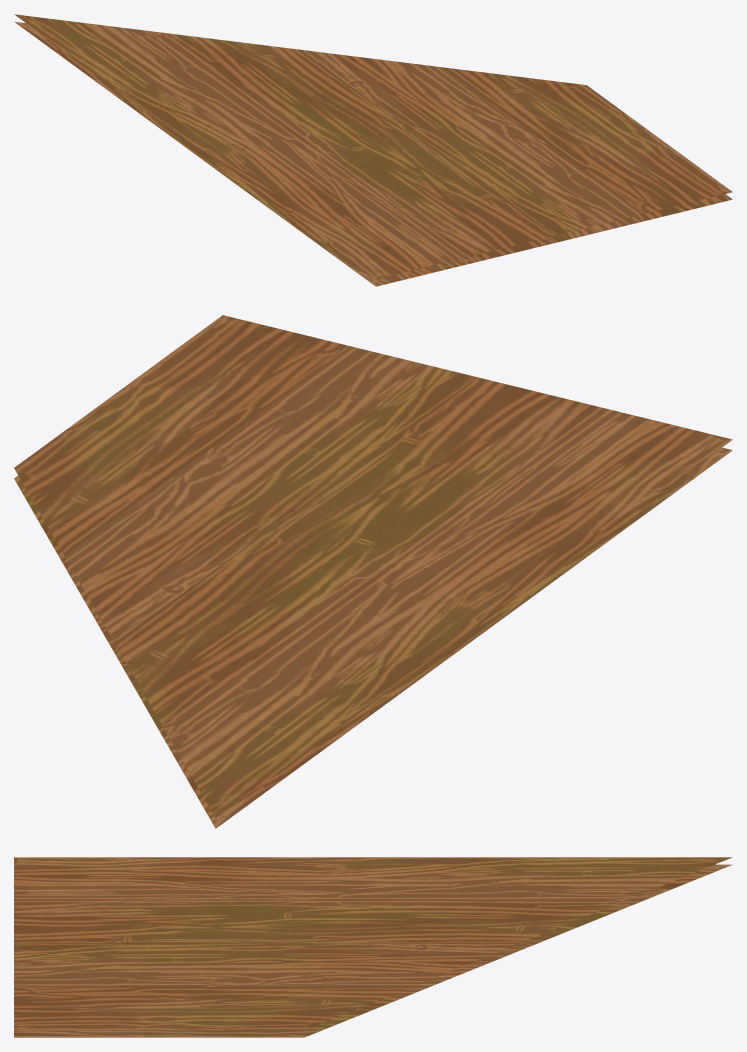
Rendered from Floor_WoodLight_OverhangCorner.glb.
The picture shows the model from 3 angles, top to bottom: view 1: azimuth 30°, elevation 25°; view 2: azimuth 150°, elevation 25°; view 3: azimuth 270°, elevation 25°; orthographic projection. The views are drawn at different scales.
Parts seen in each view (by area): view 1: Floor_WoodLight_OverhangCorner; view 2: Floor_WoodLight_OverhangCorner; view 3: Floor_WoodLight_OverhangCorner.
Boxes of the visible parts, box(x1,y1,x2,y2) form: Floor_WoodLight_OverhangCorner: box(14, 14, 732, 286); Floor_WoodLight_OverhangCorner: box(14, 315, 732, 828); Floor_WoodLight_OverhangCorner: box(14, 857, 732, 1037).
Bounding box in the file's own units: 0.9999 × 0.0199 × 1.76.
1 material, 1 textured.
